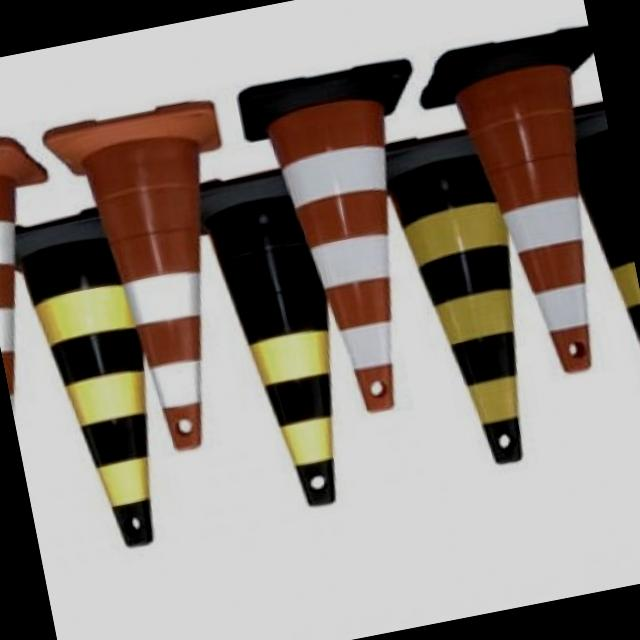cone: (228, 68, 448, 432), (41, 108, 255, 470), (429, 30, 637, 400), (0, 214, 187, 574), (213, 172, 370, 528)
